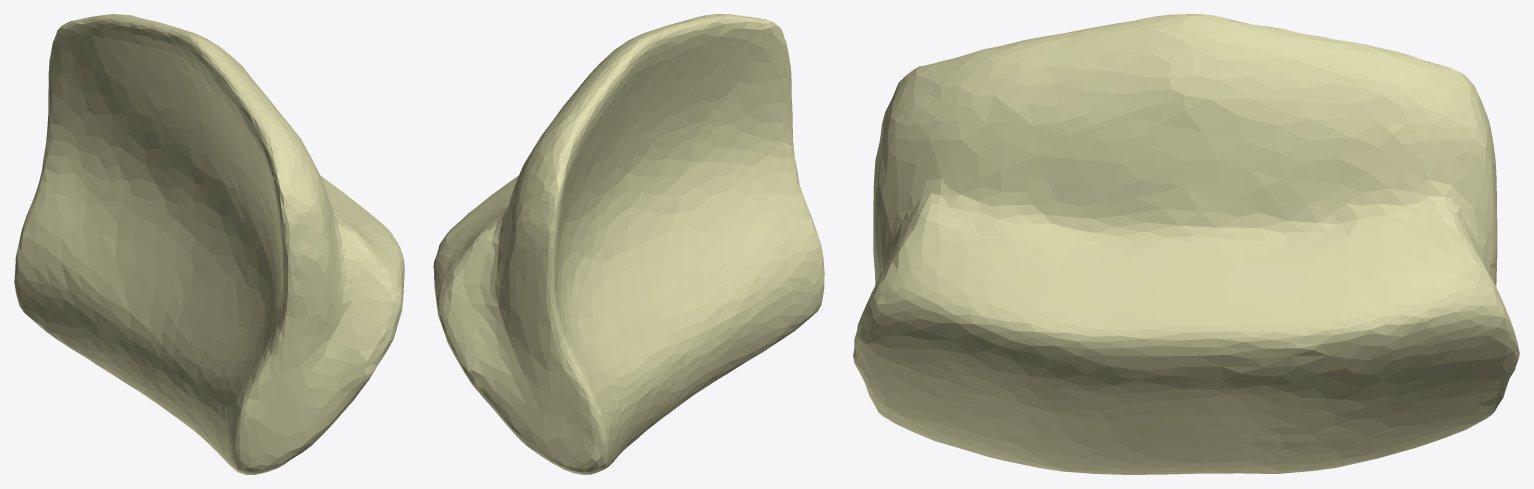
3 renders of one model, left to right at view 1: azimuth 30°, elevation 25°; view 2: azimuth 150°, elevation 25°; view 3: azimuth 270°, elevation 25°, orthographic. The views are drawn at different scales.
Parts seen in each view (by area): view 1: 936.obj; view 2: 936.obj; view 3: 936.obj.
Boxes of the visible parts, x1,y1,x2,y2 form: 936.obj: (14, 14, 404, 474); 936.obj: (433, 14, 824, 474); 936.obj: (853, 14, 1519, 474).
Size of the model in its own units: 1459 by 2391 by 3082.
